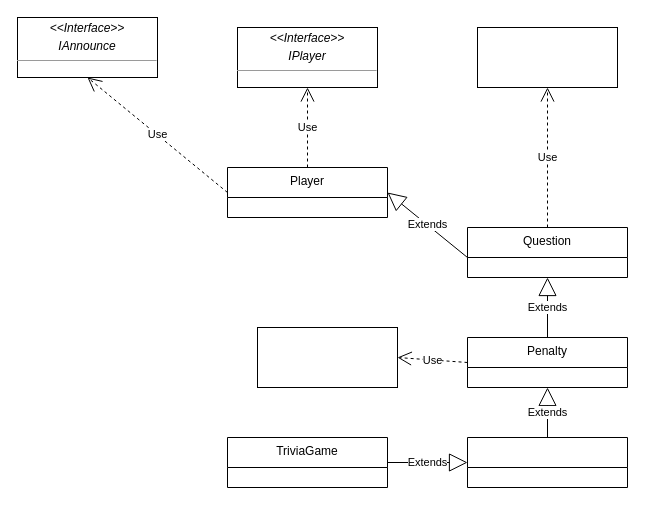
Image size: 645x505. Some labels were removed from this diagram. Each missing label, with the box of its shape:
<<Interface>> IPenalty: (256, 326, 398, 388)
<<Interface>> ITriviaGame: (476, 26, 618, 88)
RollDice: (466, 436, 628, 488)
